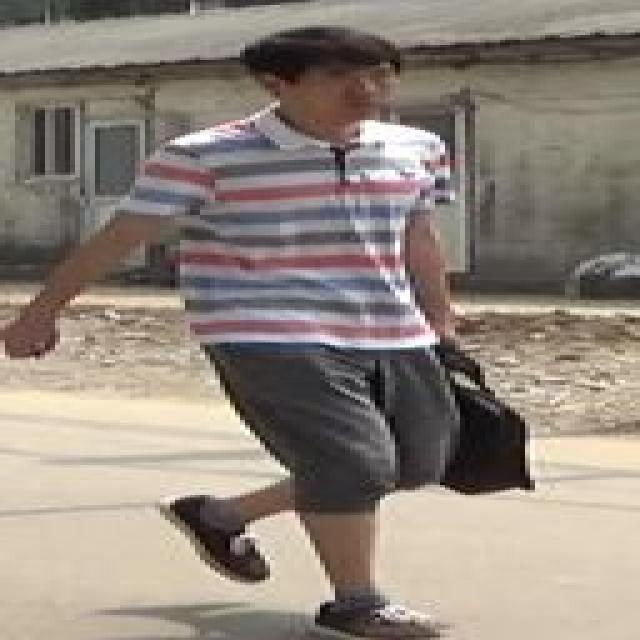adult: (41, 24, 502, 640)
